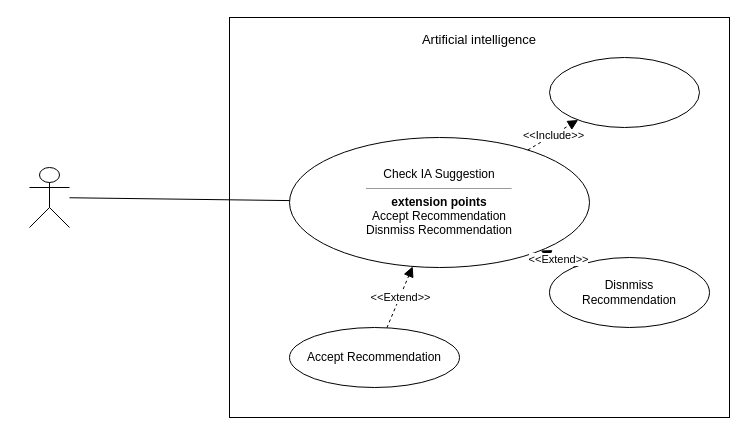
Some shapes in this 747 by 435 pixel diagram are drawn without their labels. The shapes that lost their labels are listed below. From the top down, each one's centre as x and y in pixels, then its label:
point (624, 92): Analyze Clinical ...
point (49, 197): Veterinarian
